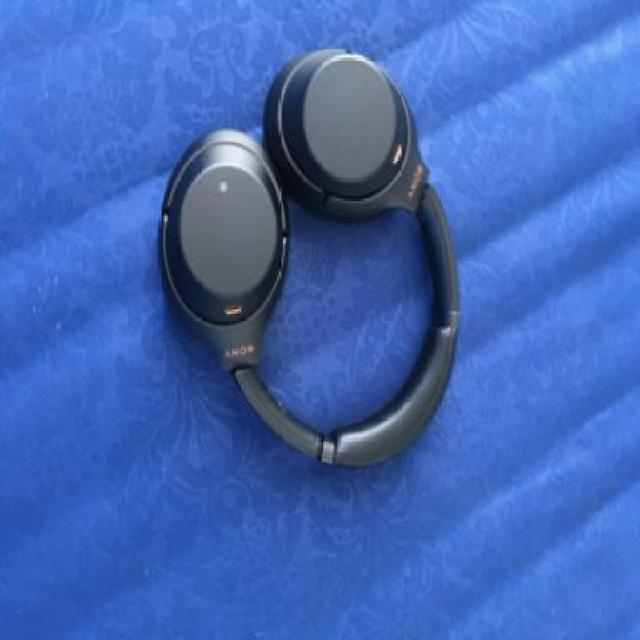earphone: (125, 15, 565, 557)
